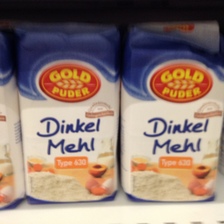flour: (14, 22, 120, 205), (120, 25, 224, 203)
